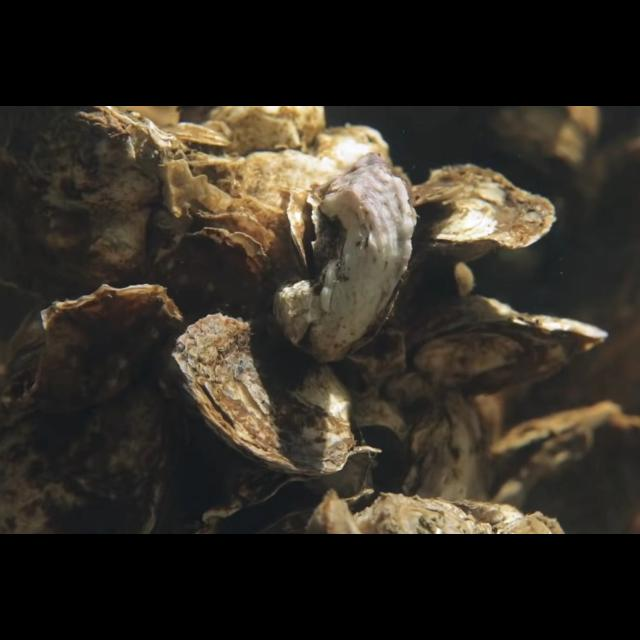Oyster-Closed: (0, 107, 216, 361), (0, 284, 184, 534), (171, 312, 357, 478), (273, 152, 417, 364), (400, 163, 558, 284), (399, 390, 496, 534), (153, 226, 274, 328)
Oyster-Open: (408, 296, 612, 398), (485, 403, 640, 535), (200, 447, 382, 535), (155, 122, 231, 168)
